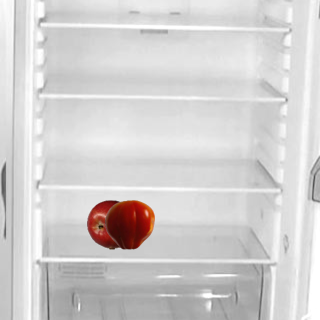Apple Braeburn: (86, 199, 136, 249)
Tomato 1: (104, 199, 154, 249)
